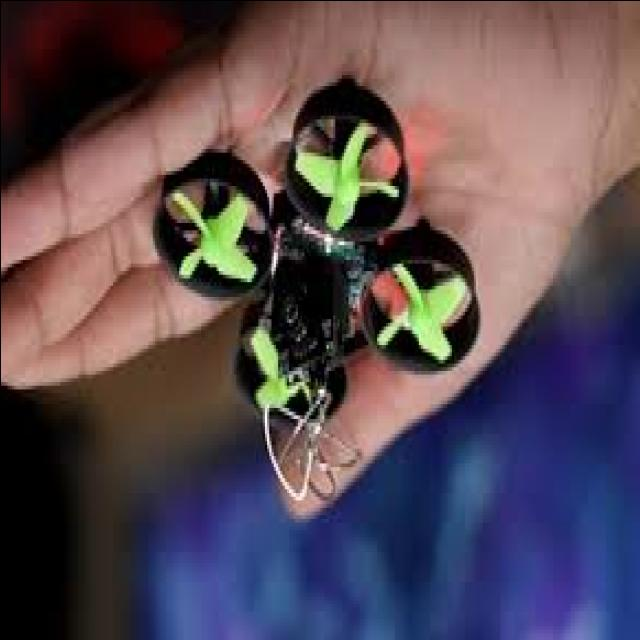drone: (148, 61, 484, 500)
